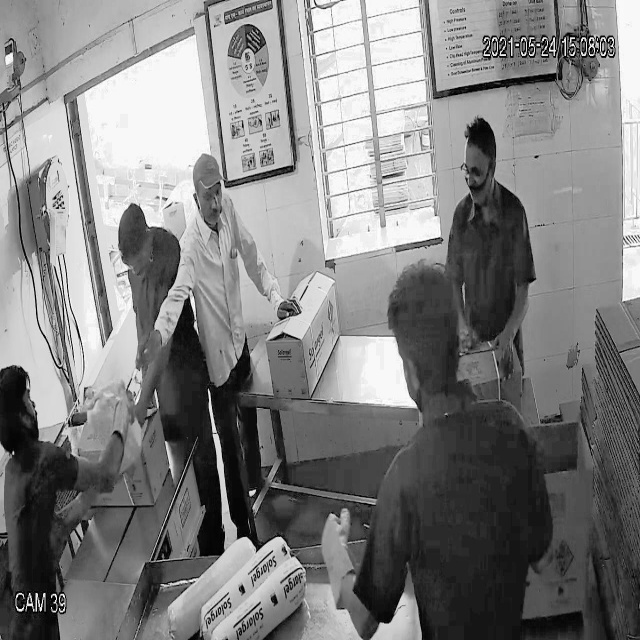Gafas: (458, 161, 489, 187)
Sin_gafas: (192, 186, 225, 210)
